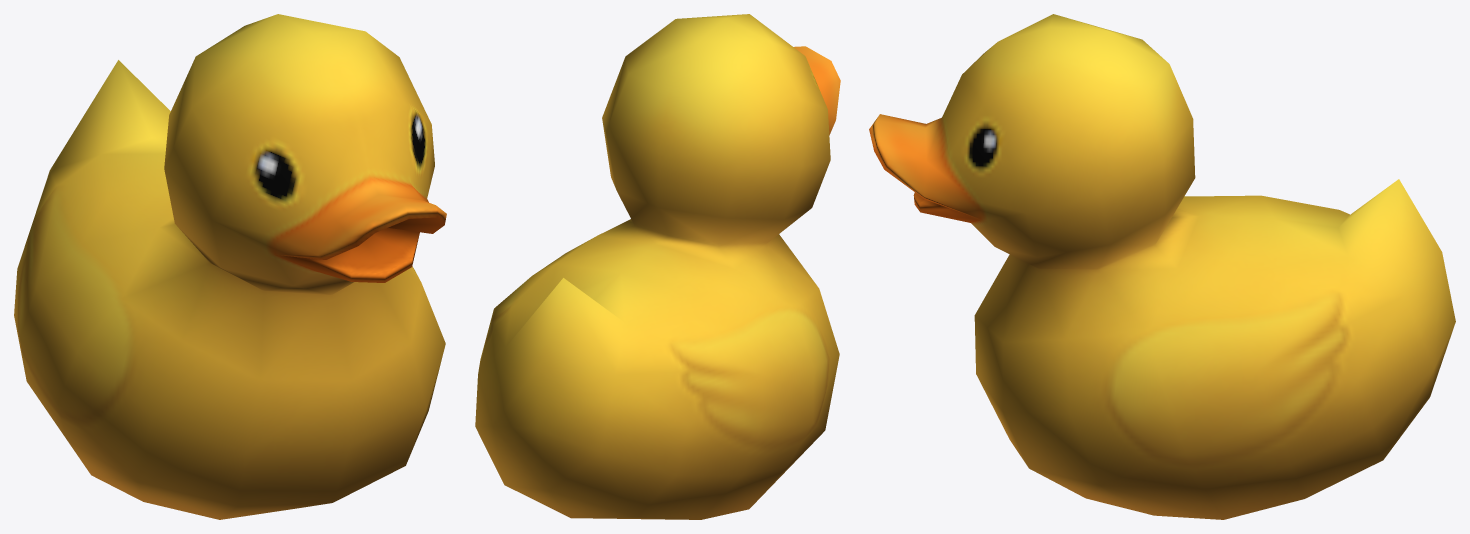
Rendered from BabyDuck.fbx.
The picture shows the model from 3 angles, left to right: view 1: azimuth 30°, elevation 25°; view 2: azimuth 150°, elevation 25°; view 3: azimuth 270°, elevation 25°; orthographic projection. The views are drawn at different scales.
Visible parts, largest first — view 1: BabyDuck; view 2: BabyDuck; view 3: BabyDuck.
Boxes of the visible parts, x1,y1,x2,y2 form: BabyDuck: (14, 14, 446, 519); BabyDuck: (475, 14, 840, 519); BabyDuck: (869, 14, 1455, 519).
Size of the model in its own units: 0.2422 by 0.3139 by 0.3798.
